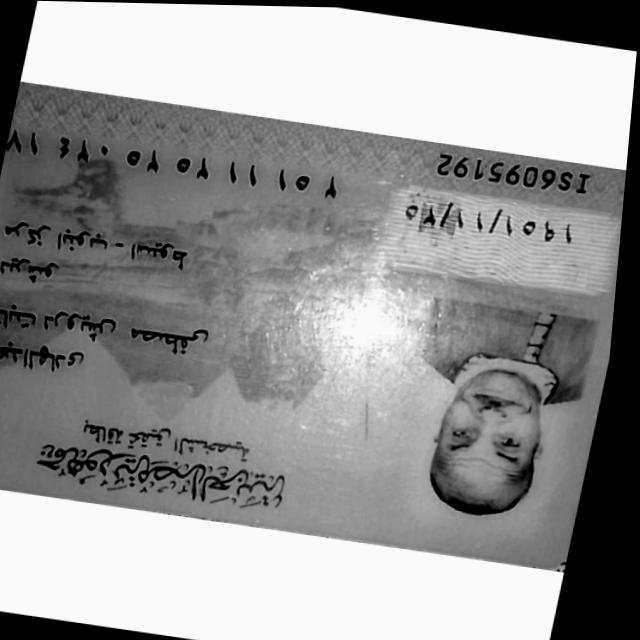front: (0, 82, 626, 573)
